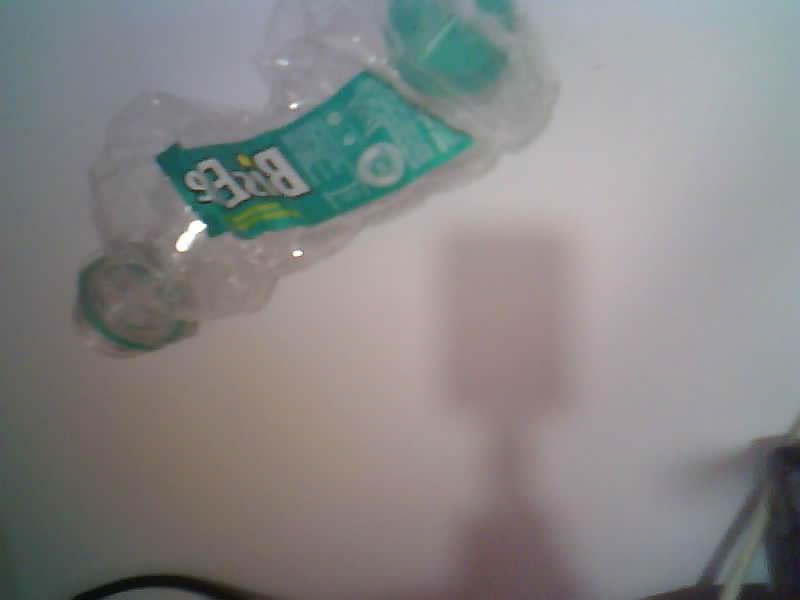non-biodegradable: (75, 0, 555, 354)
